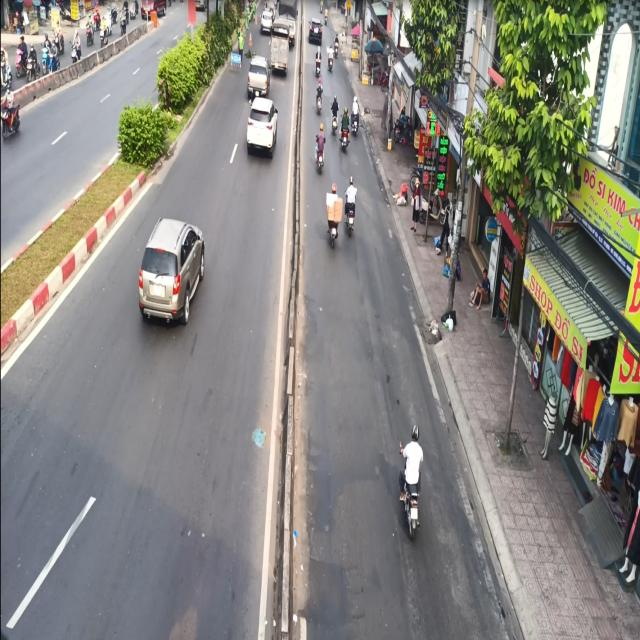car: (140, 200, 207, 343), (244, 95, 279, 158), (245, 56, 270, 98)
motor: (390, 426, 435, 548), (324, 185, 346, 254), (343, 172, 362, 250), (313, 119, 328, 178)
